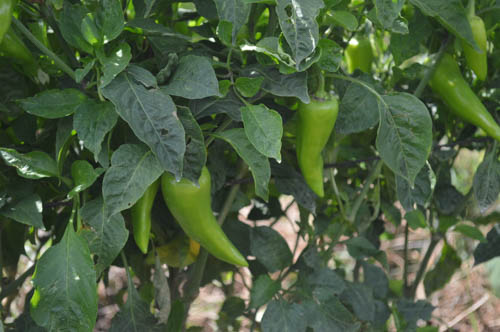ChiliPepper: (164, 170, 242, 274), (429, 62, 497, 138), (297, 89, 338, 207), (455, 16, 489, 81), (129, 191, 154, 257)
